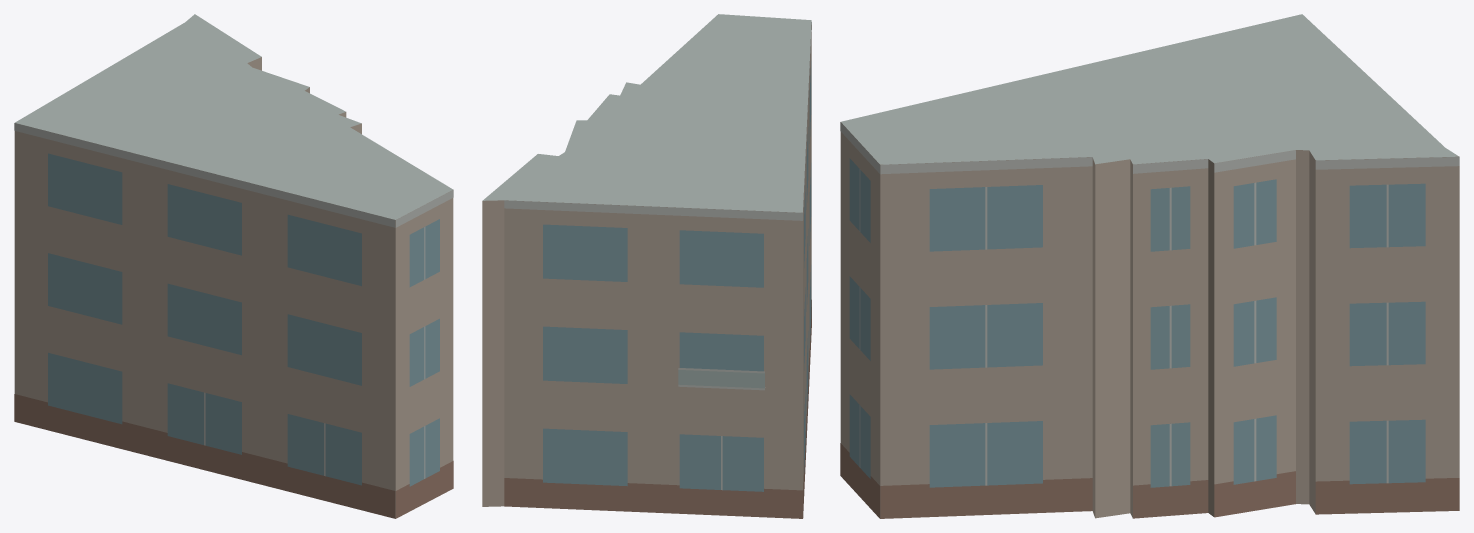
Rendered from survey-upis-32757342.glb.
The picture shows the model from 3 angles, left to right: view 1: azimuth 30°, elevation 25°; view 2: azimuth 150°, elevation 25°; view 3: azimuth 270°, elevation 25°; orthographic projection. The views are drawn at different scales.
Visible parts, largest first — view 1: survey-upis-32757342.tmp; view 2: survey-upis-32757342.tmp; view 3: survey-upis-32757342.tmp.
Part boxes in pixels (x1,y1,x2,y2): survey-upis-32757342.tmp: (14, 14, 453, 518); survey-upis-32757342.tmp: (482, 14, 811, 518); survey-upis-32757342.tmp: (840, 14, 1459, 518).
Size of the model in its own units: 8.37 by 9.15 by 14.5.
